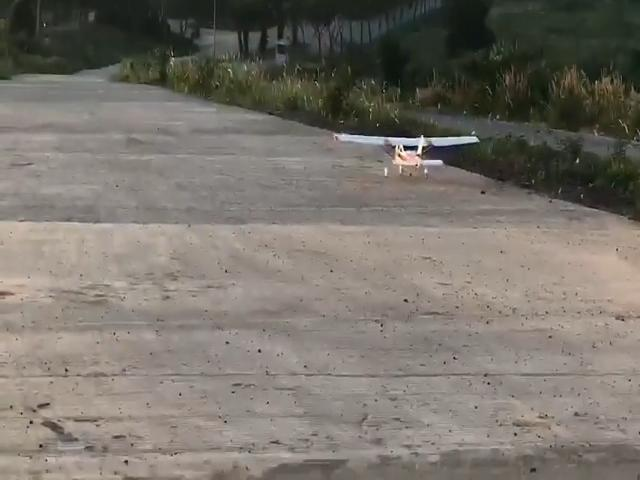plane: (335, 130, 479, 175)
